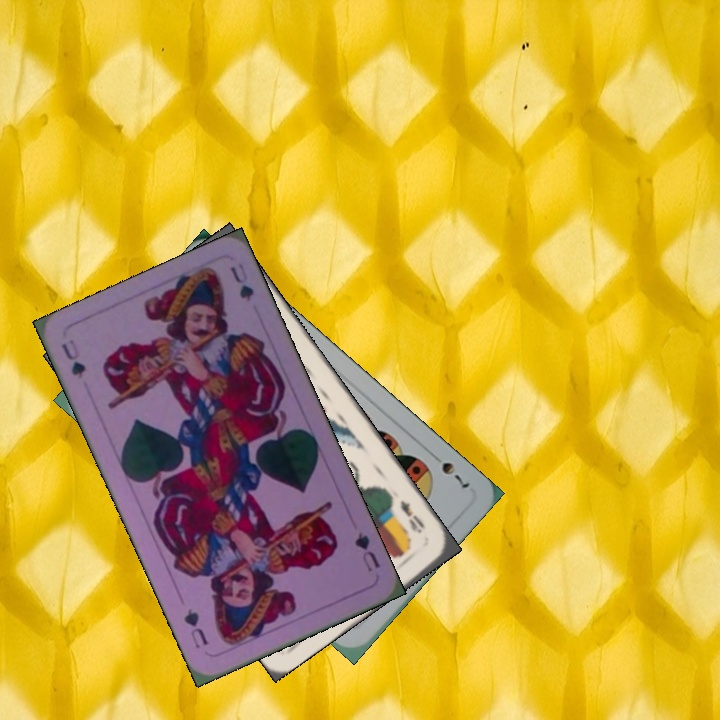EO: (395, 496, 427, 536)
GU: (350, 528, 383, 574), (57, 335, 89, 382)
S7: (426, 448, 472, 491)
